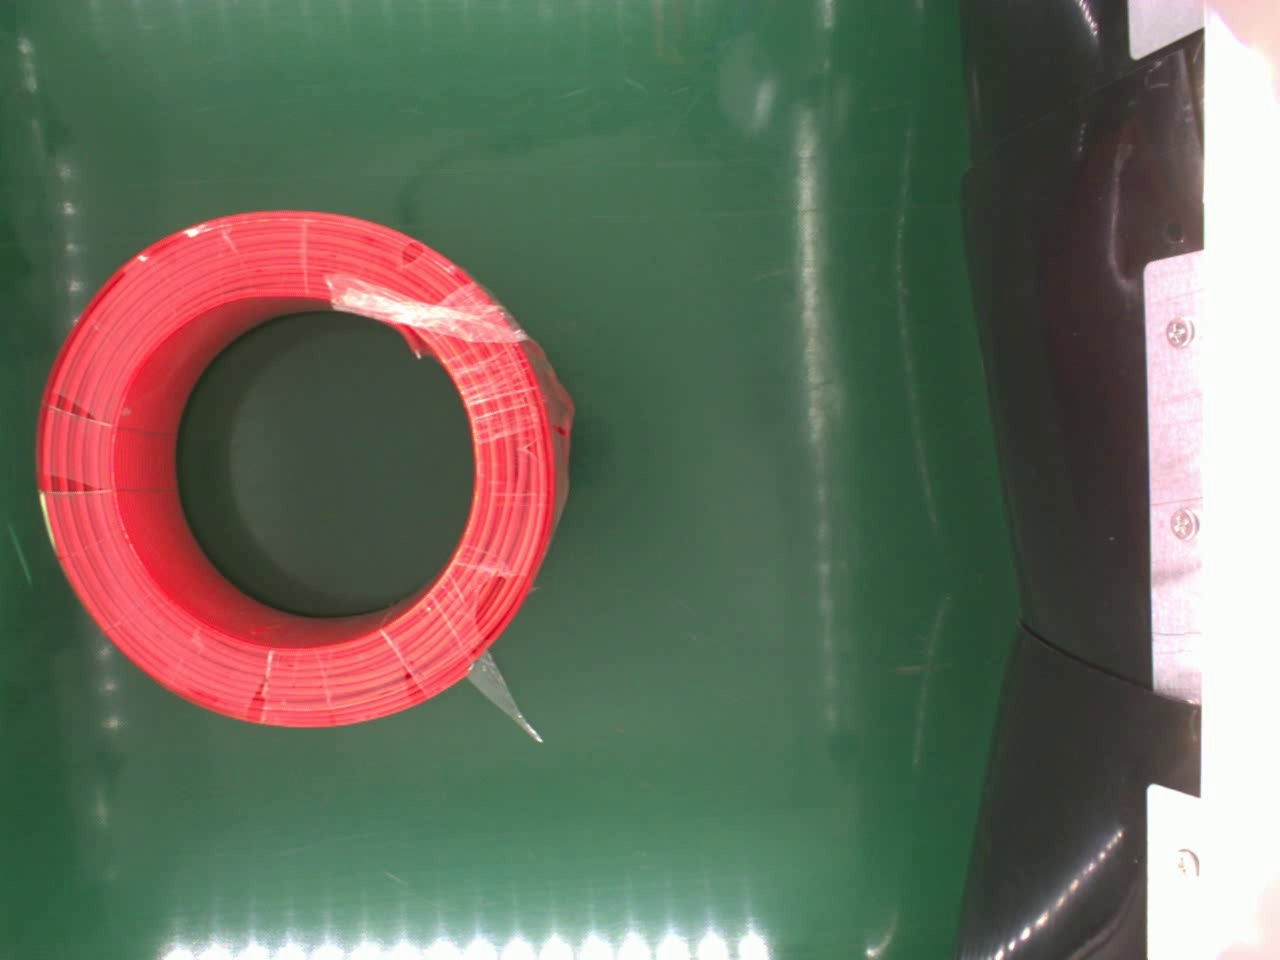red: (35, 203, 582, 722)
